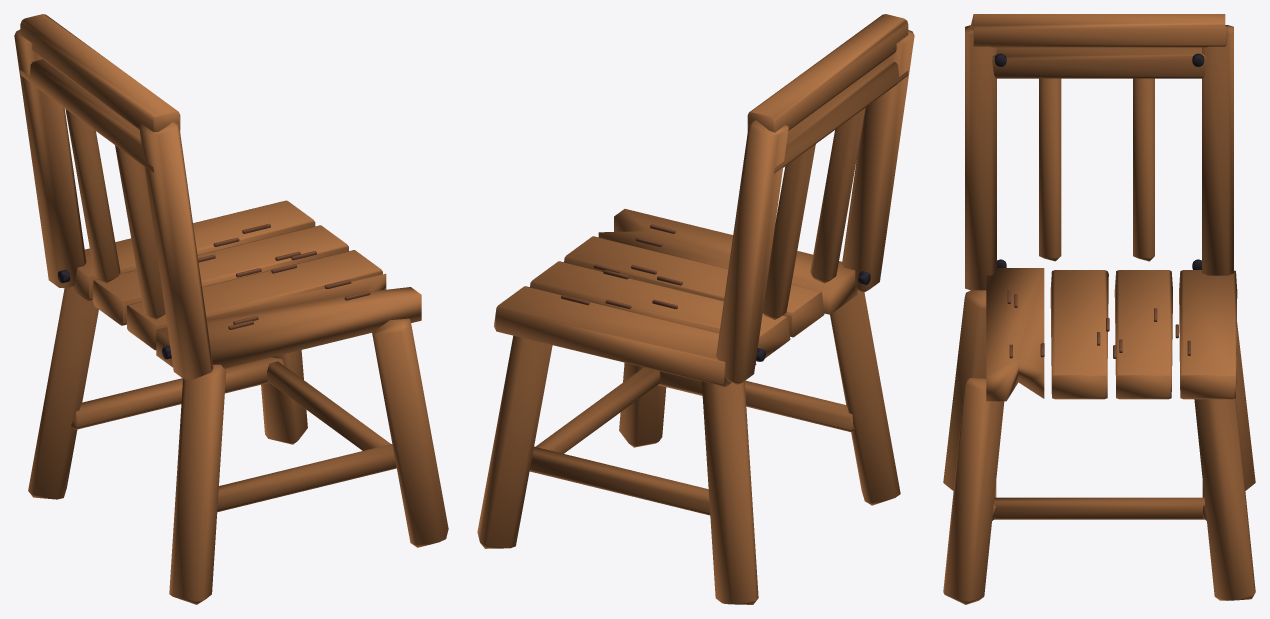
The picture shows the model from 3 angles, left to right: view 1: azimuth 30°, elevation 25°; view 2: azimuth 150°, elevation 25°; view 3: azimuth 270°, elevation 25°; orthographic projection. The views are drawn at different scales.
Size of the model in its own units: 0.6531 by 1.04 by 0.6328.
